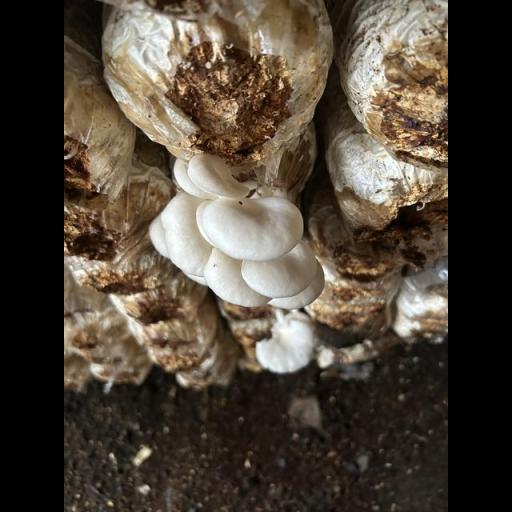White Oyster Mushroom: (135, 142, 336, 320)
